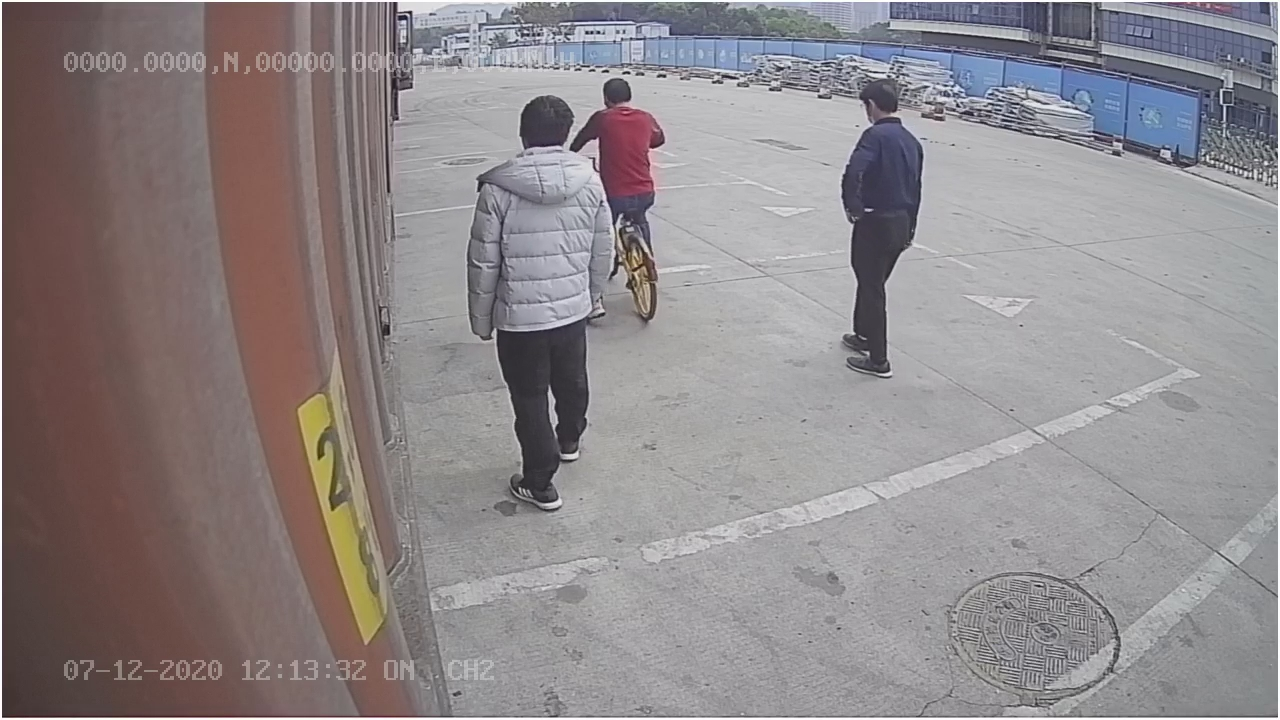person: (834, 73, 940, 376)
